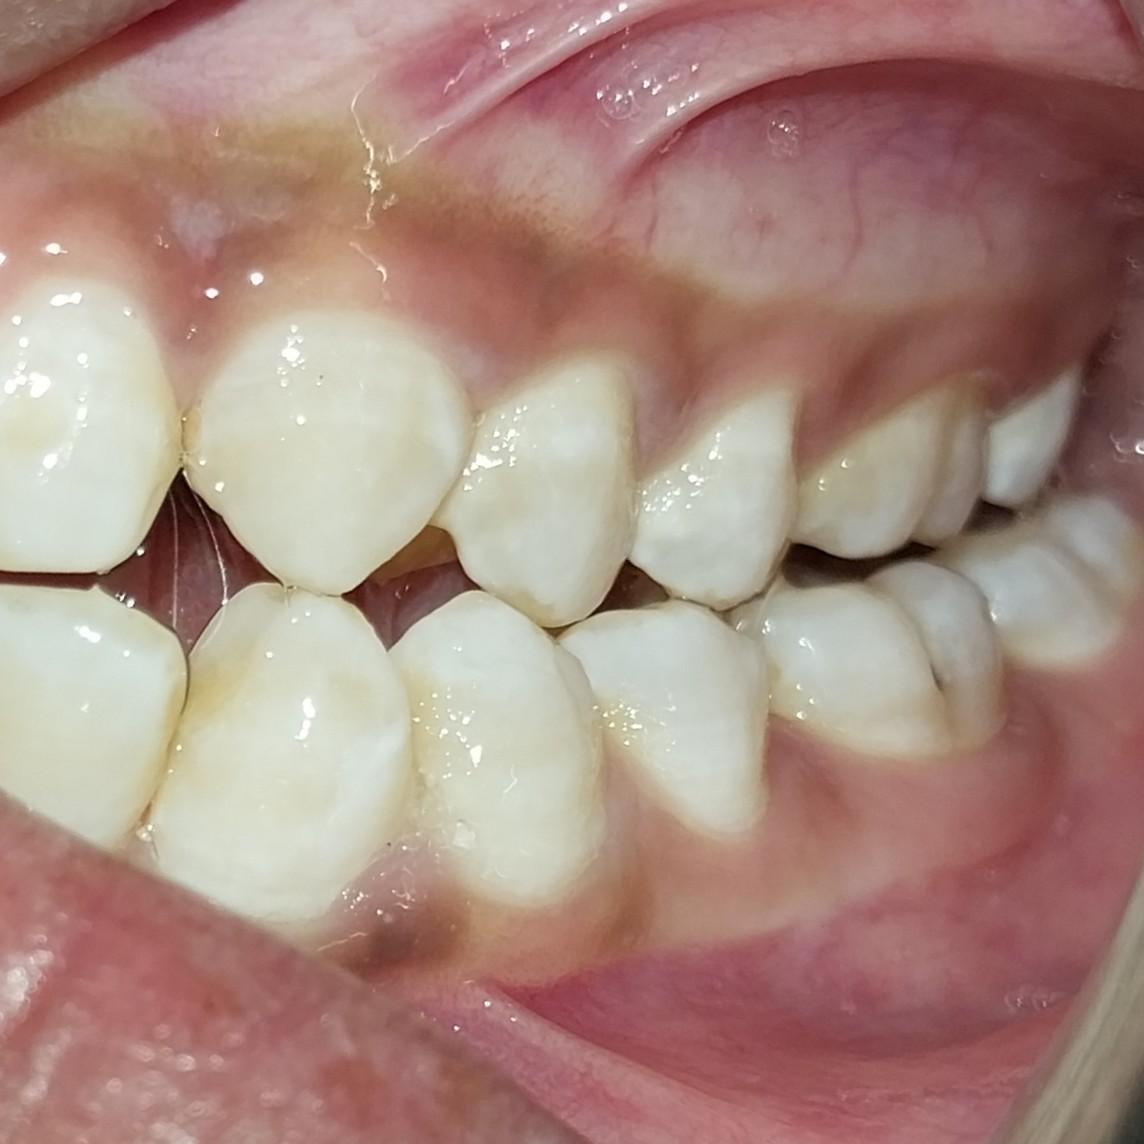D: (750, 561, 1017, 761)
